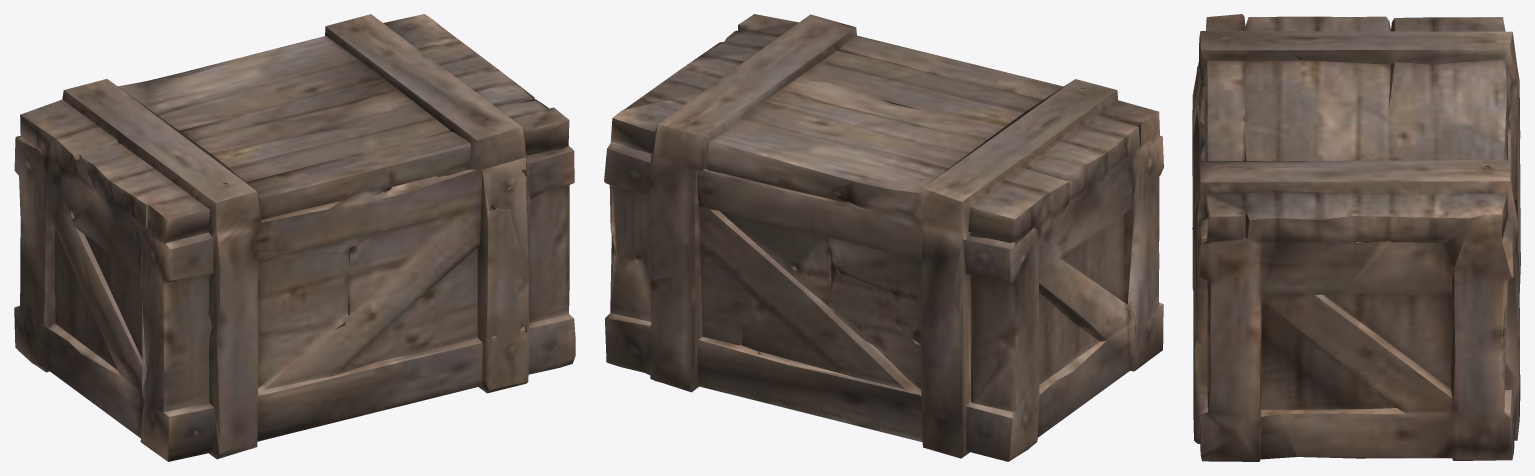
3 renders of one model, left to right at view 1: azimuth 30°, elevation 25°; view 2: azimuth 150°, elevation 25°; view 3: azimuth 270°, elevation 25°, orthographic.
Parts seen in each view (by area): view 1: geometry_0; view 2: geometry_0; view 3: geometry_0.
Boxes of the visible parts, bbox=[...] form: geometry_0: bbox=[14, 14, 575, 461]; geometry_0: bbox=[604, 14, 1163, 461]; geometry_0: bbox=[1192, 14, 1520, 461].
Size of the model in its own units: 0.596 by 0.3674 by 0.4073.
1 material, 1 textured.
